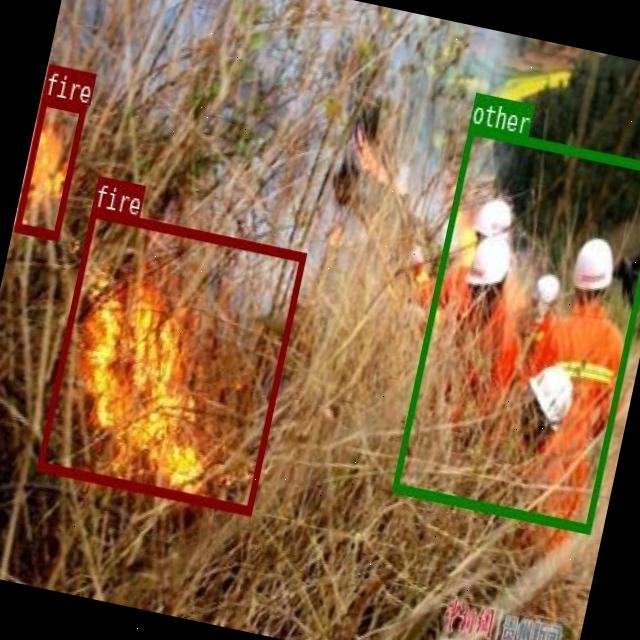fire: (36, 208, 305, 514), (13, 96, 86, 240)
